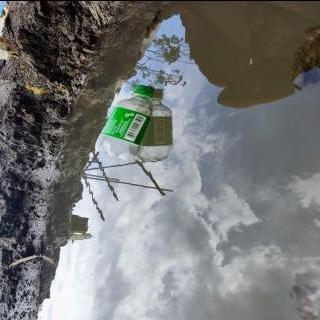bottle: (91, 81, 158, 160)
